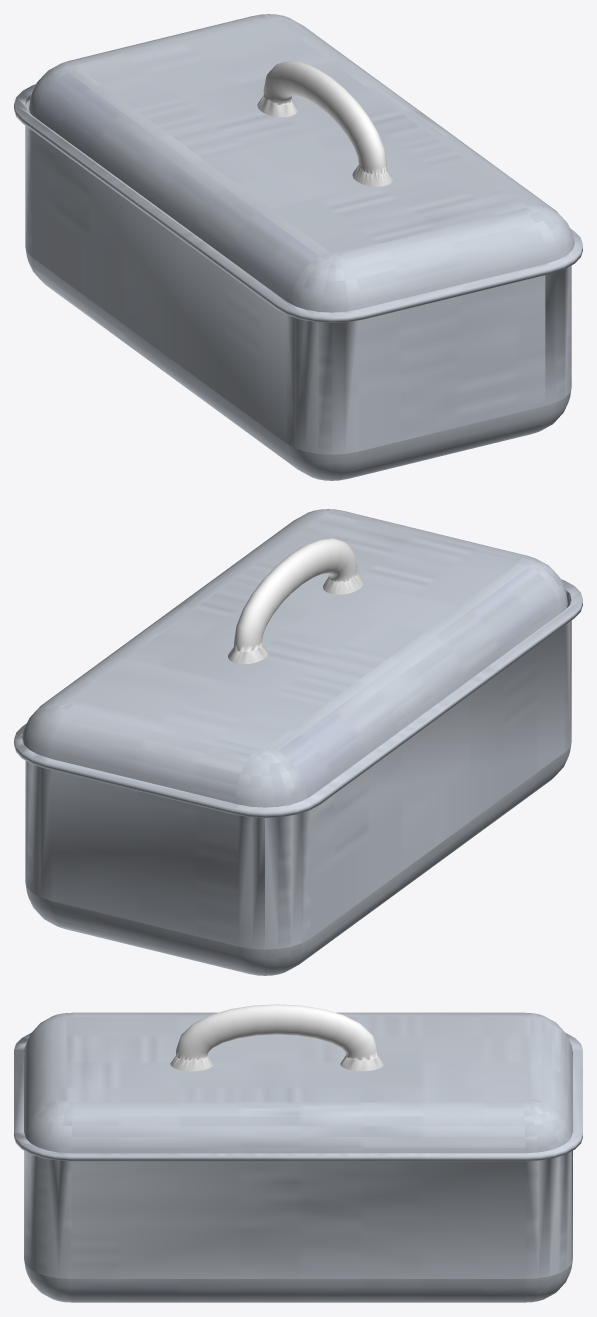
The model's file is BiscuitTin.FBX.
The picture shows the model from 3 angles, top to bottom: view 1: azimuth 30°, elevation 25°; view 2: azimuth 150°, elevation 25°; view 3: azimuth 270°, elevation 25°; orthographic projection. The views are drawn at different scales.
Visible parts, largest first — view 1: BiscuitTop, BiscuitTin; view 2: BiscuitTop, BiscuitTin; view 3: BiscuitTin, BiscuitTop.
Boxes of the visible parts, x1,y1,x2,y2 form: BiscuitTop: [29, 14, 574, 312]; BiscuitTin: [14, 84, 582, 480]; BiscuitTop: [22, 509, 567, 807]; BiscuitTin: [14, 579, 582, 975]; BiscuitTin: [14, 1033, 582, 1302]; BiscuitTop: [24, 1004, 572, 1153].
Size of the model in its own units: 8.08 by 7.49 by 14.96.
Materials: 3 (1 with a texture image).
